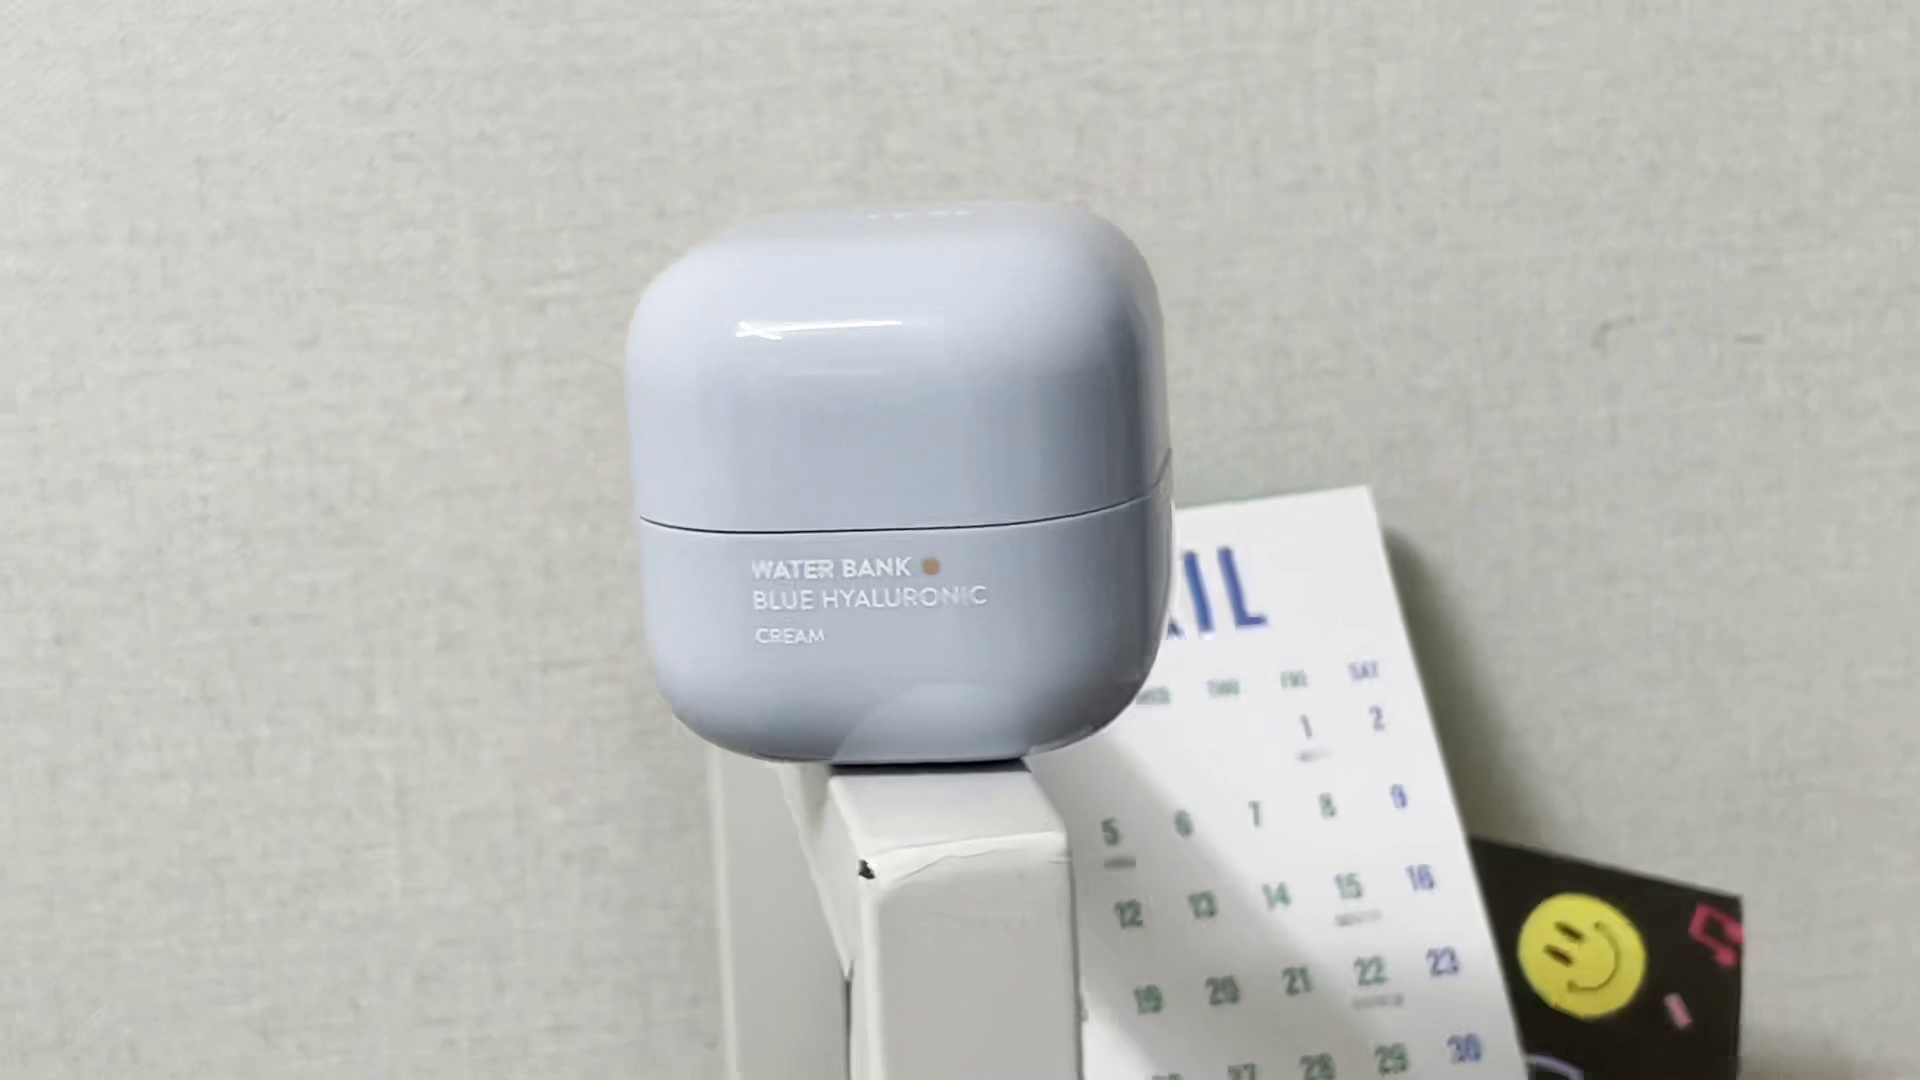cream: (626, 194, 1174, 762)
